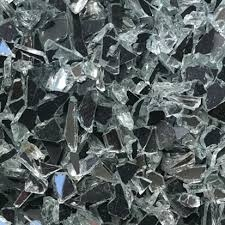glass: (107, 100, 144, 165), (40, 37, 87, 68), (159, 190, 207, 220), (168, 150, 209, 184), (104, 182, 139, 221), (96, 33, 126, 76), (159, 91, 205, 118), (61, 96, 84, 149), (49, 169, 81, 207), (3, 77, 30, 122), (76, 88, 101, 135), (32, 116, 71, 143), (139, 124, 167, 158), (201, 76, 225, 109), (37, 194, 62, 225), (199, 124, 225, 151), (129, 171, 153, 193)
